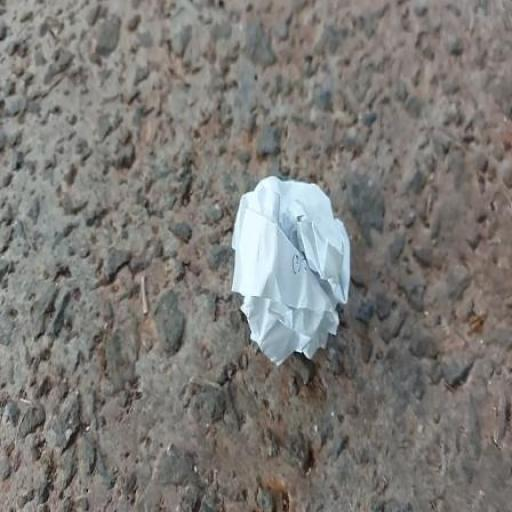paper: (160, 127, 434, 384)
